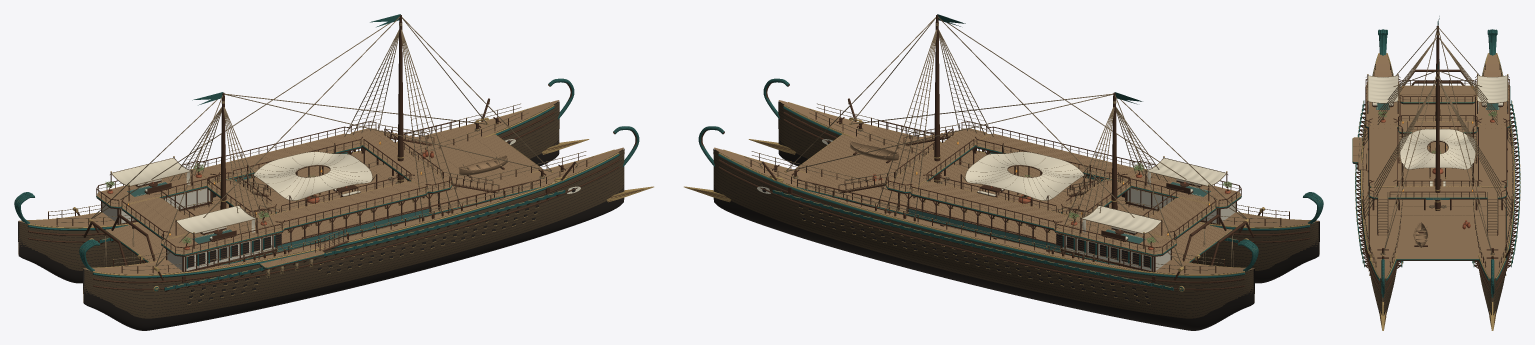
Rendered from thalassa-shell.glb.
The picture shows the model from 3 angles, left to right: view 1: azimuth 30°, elevation 25°; view 2: azimuth 150°, elevation 25°; view 3: azimuth 270°, elevation 25°; orthographic projection. The views are drawn at different scales.
Visible parts, largest first — view 1: Individual laid deck planks, Carvel cedar hull | 24 strakes per side, Longitudinal timber, gallery structure, Standing and running hemp rigging, Continuous inner hull skin, Continuous vermilion strakes, Folded canvas and awnings, Carvel cedar hull | 24 strakes per side.001, Bronze fittings and rails, Continuous inner hull skin.001, Recessed gallery and window shadows, Accommodation exterior panels (+3 smaller); view 2: Individual laid deck planks, Carvel cedar hull | 24 strakes per side.001, Longitudinal timber, gallery structure, Standing and running hemp rigging, Continuous inner hull skin.001, Continuous vermilion strakes, Folded canvas and awnings, Bronze fittings and rails, Carvel cedar hull | 24 strakes per side, Continuous inner hull skin, Recessed gallery and window shadows, Accommodation exterior panels (+3 smaller); view 3: Individual laid deck planks, Longitudinal timber, gallery structure, Standing and running hemp rigging, Folded canvas and awnings, Continuous vermilion strakes, Bronze fittings and rails, Carvel cedar hull | 24 strakes per side, Carvel cedar hull | 24 strakes per side.001, Cedar tender (23, -2.6, 6.05), Woven terrace runners and throws, Carved bronze edgework.
Part boxes in pixels (bbox=[...]): Individual laid deck planks: bbox=[19, 100, 623, 274]; Carvel cedar hull | 24 strakes per side: bbox=[83, 149, 624, 318]; Longitudinal timber, gallery structure: bbox=[28, 15, 643, 291]; Standing and running hemp rigging: bbox=[49, 16, 593, 277]; Continuous inner hull skin: bbox=[83, 149, 624, 330]; Continuous vermilion strakes: bbox=[14, 14, 639, 291]; Folded canvas and awnings: bbox=[112, 152, 372, 238]; Carvel cedar hull | 24 strakes per side.001: bbox=[18, 101, 559, 270]; Bronze fittings and rails: bbox=[18, 102, 653, 304]; Continuous inner hull skin.001: bbox=[18, 101, 559, 283]; Recessed gallery and window shadows: bbox=[187, 193, 538, 304]; Accommodation exterior panels: bbox=[102, 188, 275, 272]; Individual laid deck planks: bbox=[714, 100, 1318, 274]; Carvel cedar hull | 24 strakes per side.001: bbox=[713, 149, 1254, 318]; Longitudinal timber, gallery structure: bbox=[694, 15, 1309, 291]; Standing and running hemp rigging: bbox=[744, 16, 1288, 270]; Continuous inner hull skin.001: bbox=[713, 149, 1254, 330]; Continuous vermilion strakes: bbox=[698, 14, 1323, 291]; Folded canvas and awnings: bbox=[965, 152, 1225, 238]; Bronze fittings and rails: bbox=[684, 102, 1319, 304]; Carvel cedar hull | 24 strakes per side: bbox=[778, 101, 1319, 270]; Continuous inner hull skin: bbox=[778, 101, 1319, 283]; Recessed gallery and window shadows: bbox=[799, 193, 1150, 304]; Accommodation exterior panels: bbox=[1062, 188, 1235, 272]; Individual laid deck planks: bbox=[1352, 53, 1513, 278]; Longitudinal timber, gallery structure: bbox=[1353, 25, 1519, 325]; Standing and running hemp rigging: bbox=[1357, 27, 1512, 266]; Folded canvas and awnings: bbox=[1368, 76, 1507, 169]; Continuous vermilion strakes: bbox=[1352, 16, 1520, 297]; Bronze fittings and rails: bbox=[1352, 53, 1520, 330]; Carvel cedar hull | 24 strakes per side: bbox=[1368, 261, 1397, 315]; Carvel cedar hull | 24 strakes per side.001: bbox=[1478, 261, 1507, 315]; Cedar tender (23, -2.6, 6.05): bbox=[1413, 222, 1428, 247]; Woven terrace runners and throws: bbox=[1376, 103, 1499, 109]; Carved bronze edgework: bbox=[1363, 34, 1512, 261].
Bounding box in the file's own units: 86.64 × 33.03 × 26.13.
